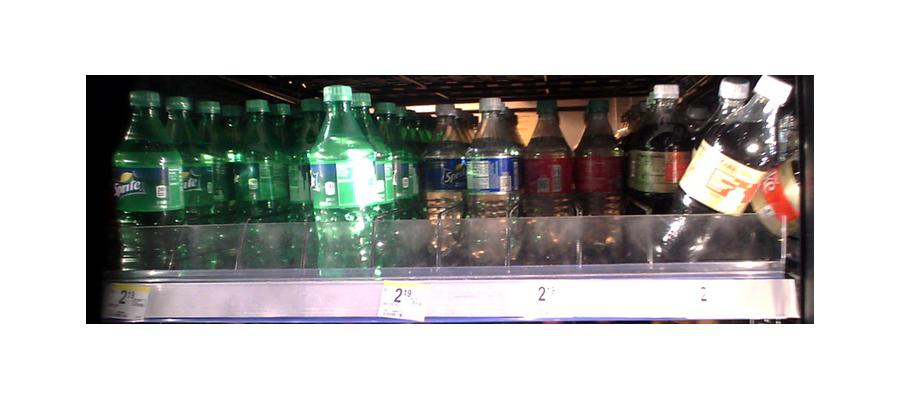bottle: (677, 73, 787, 255), (305, 86, 381, 279), (112, 86, 180, 272), (234, 90, 302, 271), (629, 77, 689, 260), (467, 94, 521, 265), (182, 93, 234, 268), (523, 91, 574, 263), (577, 91, 623, 263), (373, 102, 422, 262), (425, 98, 465, 259)
